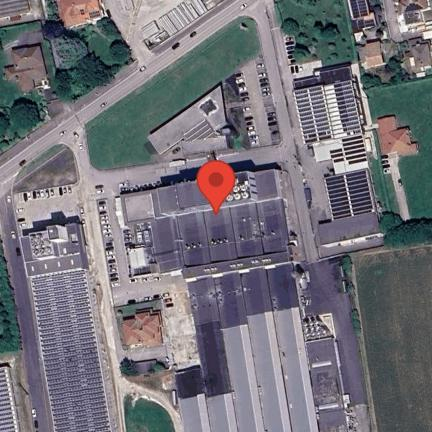area_open: (104, 0, 246, 69), (93, 182, 162, 313), (11, 145, 83, 237), (221, 55, 285, 151), (122, 157, 252, 192), (119, 346, 182, 418), (161, 272, 202, 372), (276, 153, 310, 262), (305, 146, 333, 222), (283, 31, 322, 81), (51, 99, 86, 142)
built: (30, 272, 112, 432), (297, 256, 364, 409), (292, 66, 364, 146), (148, 85, 229, 156), (274, 310, 321, 432), (249, 313, 294, 432), (303, 314, 348, 432), (225, 327, 267, 432), (182, 251, 292, 282), (177, 171, 256, 213), (196, 324, 234, 400), (323, 170, 375, 221), (174, 367, 212, 432), (318, 212, 384, 247), (313, 134, 369, 175), (177, 211, 215, 270), (150, 215, 186, 277), (213, 272, 249, 332), (4, 44, 47, 94), (231, 202, 267, 261), (205, 207, 240, 264), (266, 262, 302, 316), (259, 197, 291, 254), (187, 277, 222, 327), (377, 115, 419, 156), (120, 189, 162, 227), (241, 269, 273, 318), (121, 311, 163, 347), (57, 0, 107, 29), (25, 254, 86, 276), (0, 366, 20, 432), (207, 394, 239, 432), (54, 221, 86, 256), (252, 169, 283, 204), (31, 227, 60, 262), (408, 37, 432, 70), (158, 186, 182, 218), (347, 404, 374, 432), (0, 0, 32, 19), (364, 41, 386, 68), (395, 0, 432, 14), (19, 235, 37, 263), (348, 0, 370, 18), (357, 13, 377, 31), (355, 31, 365, 43)
vegetation_high: (44, 0, 137, 104), (0, 238, 23, 355), (0, 99, 42, 155), (381, 214, 432, 249)
vegetation_low: (84, 17, 263, 171), (350, 242, 432, 432), (365, 76, 432, 218), (274, 0, 359, 69), (0, 21, 63, 99), (362, 0, 414, 90), (80, 59, 145, 112), (0, 67, 52, 125), (7, 352, 42, 432), (368, 129, 399, 215), (123, 394, 175, 432)
